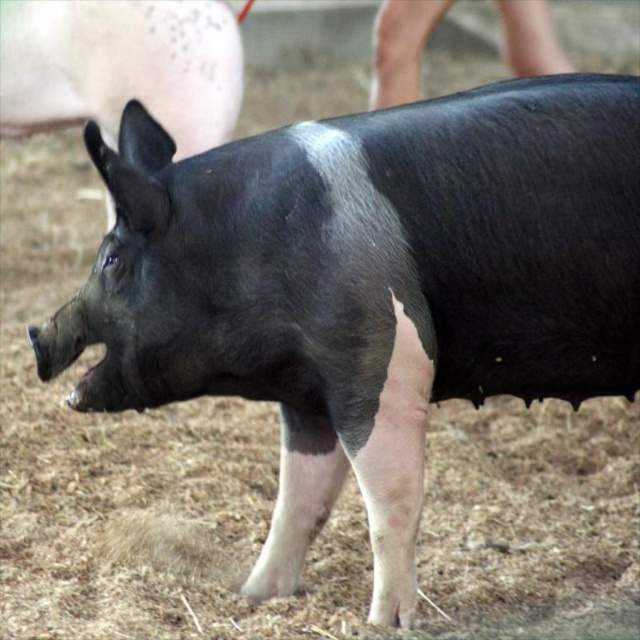Pig: (26, 71, 639, 629)
